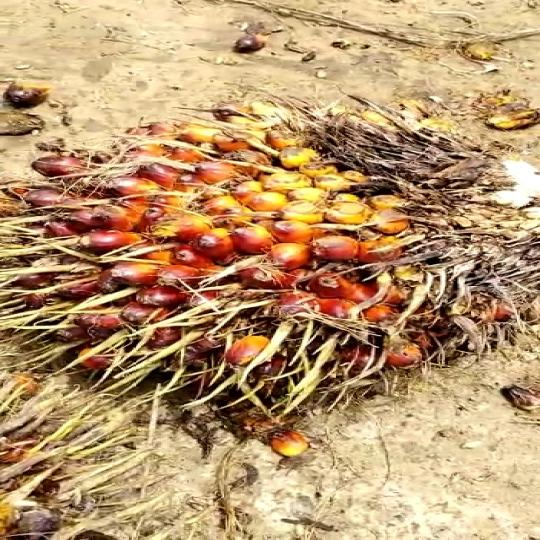masak: (0, 98, 540, 453)
